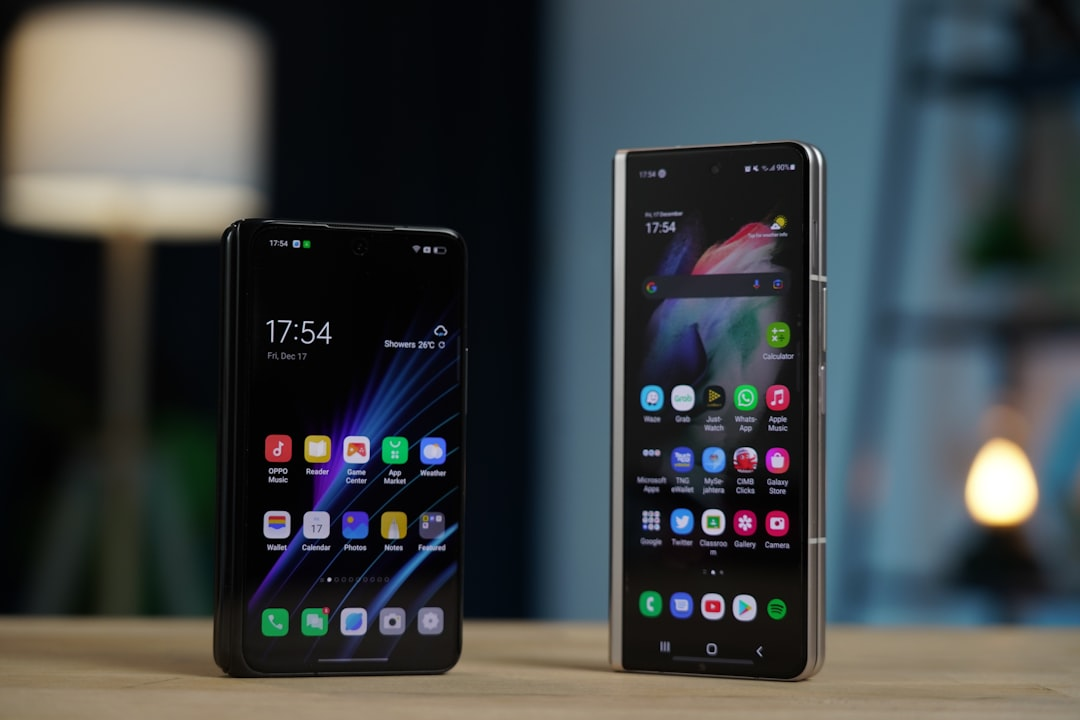phone: (607, 140, 832, 677), (214, 214, 469, 681)
